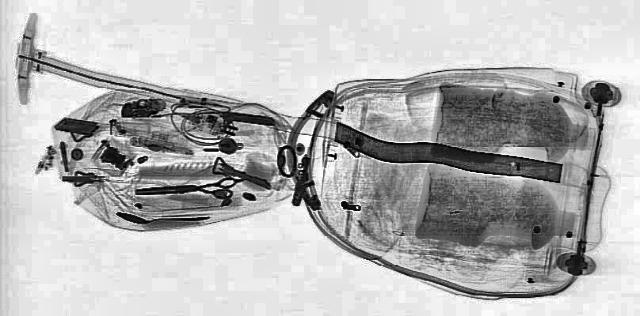Scissors: (132, 176, 240, 202)
